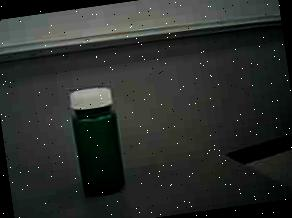Bottle C: (57, 78, 147, 208)
